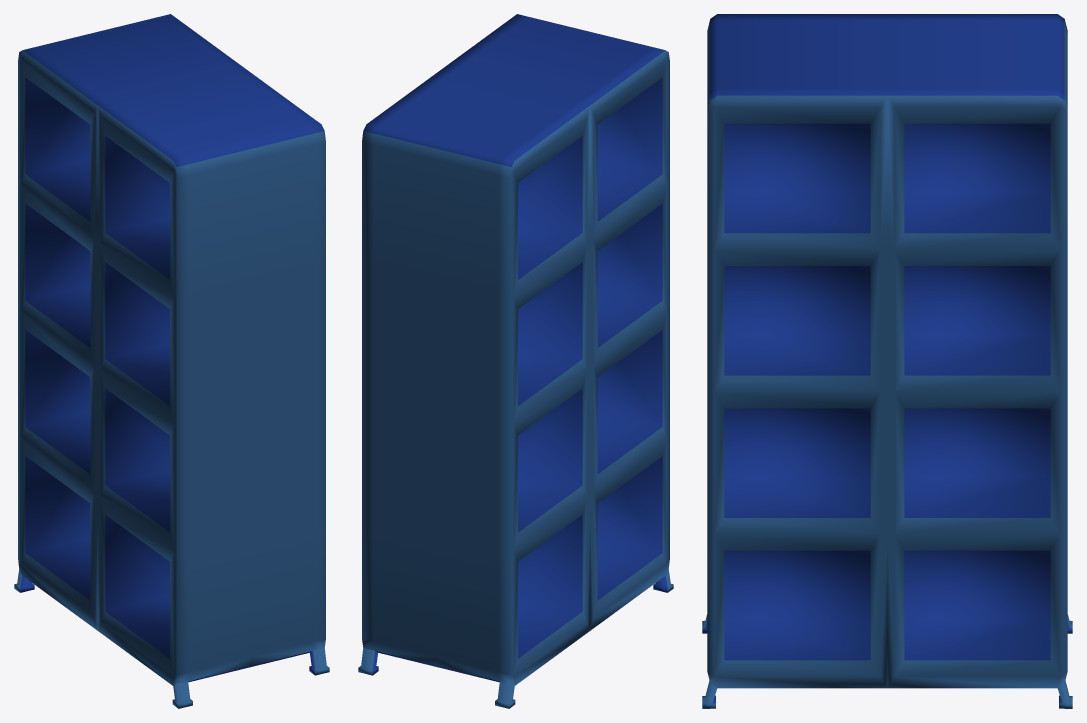
The model's file is shelf_001.glb.
3 renders of one model, left to right at view 1: azimuth 30°, elevation 25°; view 2: azimuth 150°, elevation 25°; view 3: azimuth 270°, elevation 25°, orthographic. The views are drawn at different scales.
Visible parts, largest first — view 1: Shelf_1-col; view 2: Shelf_1-col; view 3: Shelf_1-col.
Part boxes in pixels (x1,y1,x2,y2): Shelf_1-col: [14, 14, 329, 708]; Shelf_1-col: [358, 14, 673, 708]; Shelf_1-col: [702, 14, 1072, 708].
Size of the model in its own units: 1.06 by 3.63 by 1.99.
Materials: 1 (1 with a texture image).
